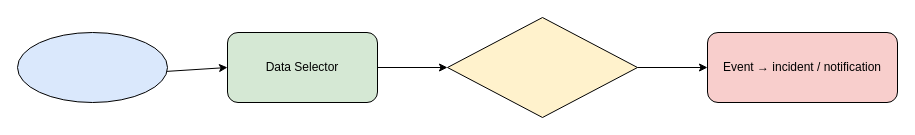
This 915x135 diagram has some shape labels left out. Each missing label, with the centre of its shape:
"Analytics logs" belongs at [92,67].
"Basic OR / Correlation sequence" belongs at [542,67].
